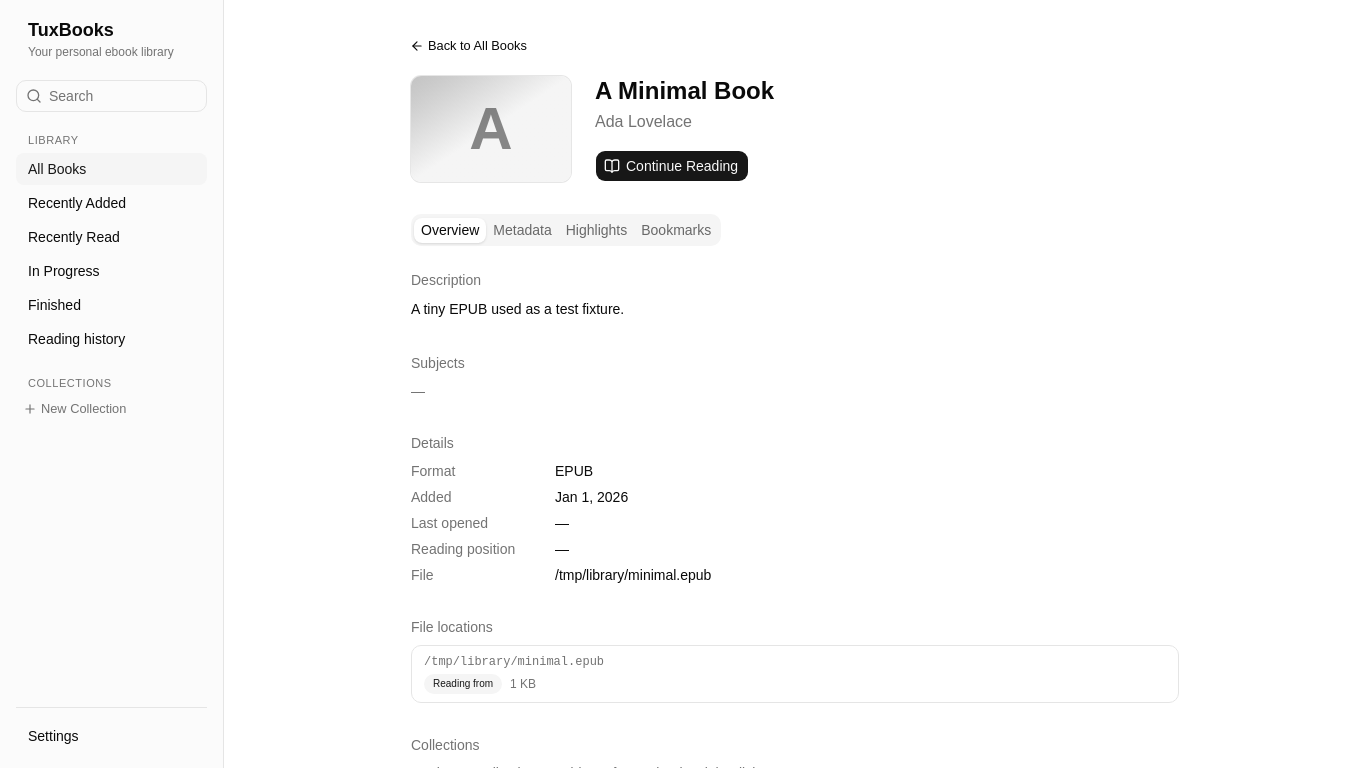
Scenario: BookDetail › returns to the library from the back button
expect the element with test id "book-detail" is shown: met, box [411,32,1179,767]
Step 1. Click the button with test id "detail-back" → x=470, y=46, box [403,32,538,60]
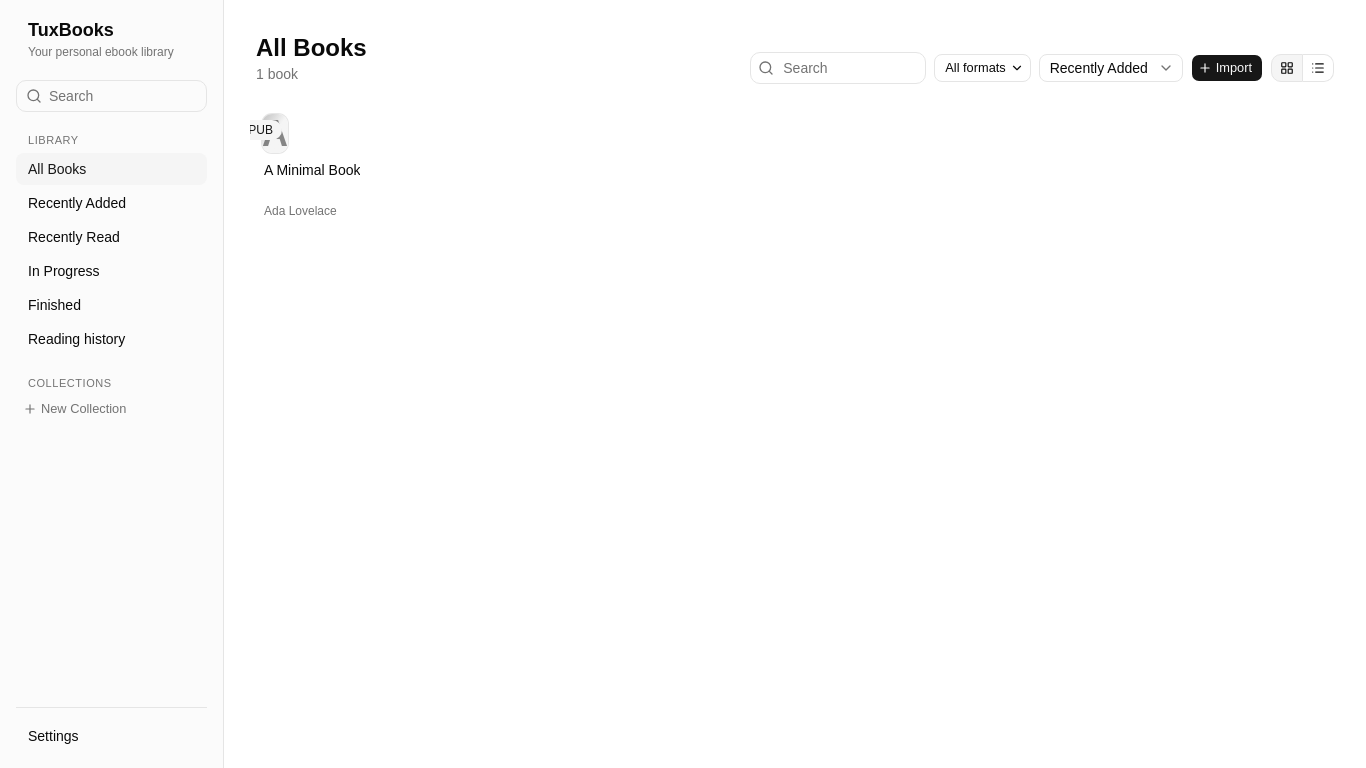
expect the element with test id "library-view" is shown: met, box [256,34,1334,84]
